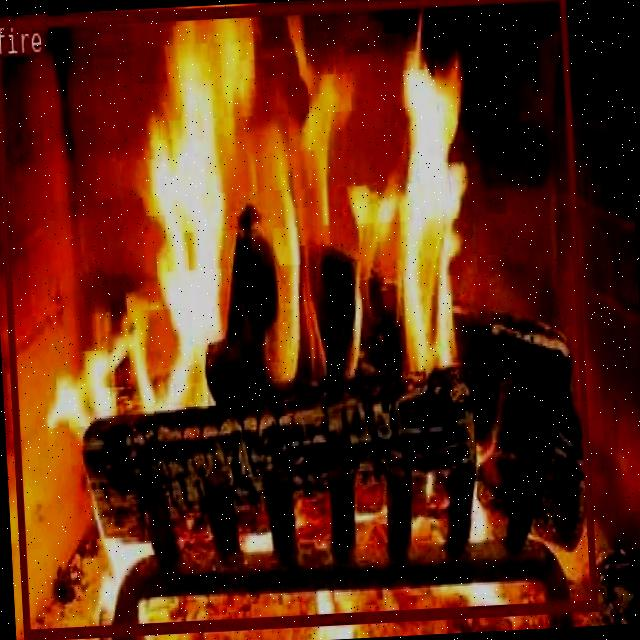fire: (0, 0, 596, 638)
